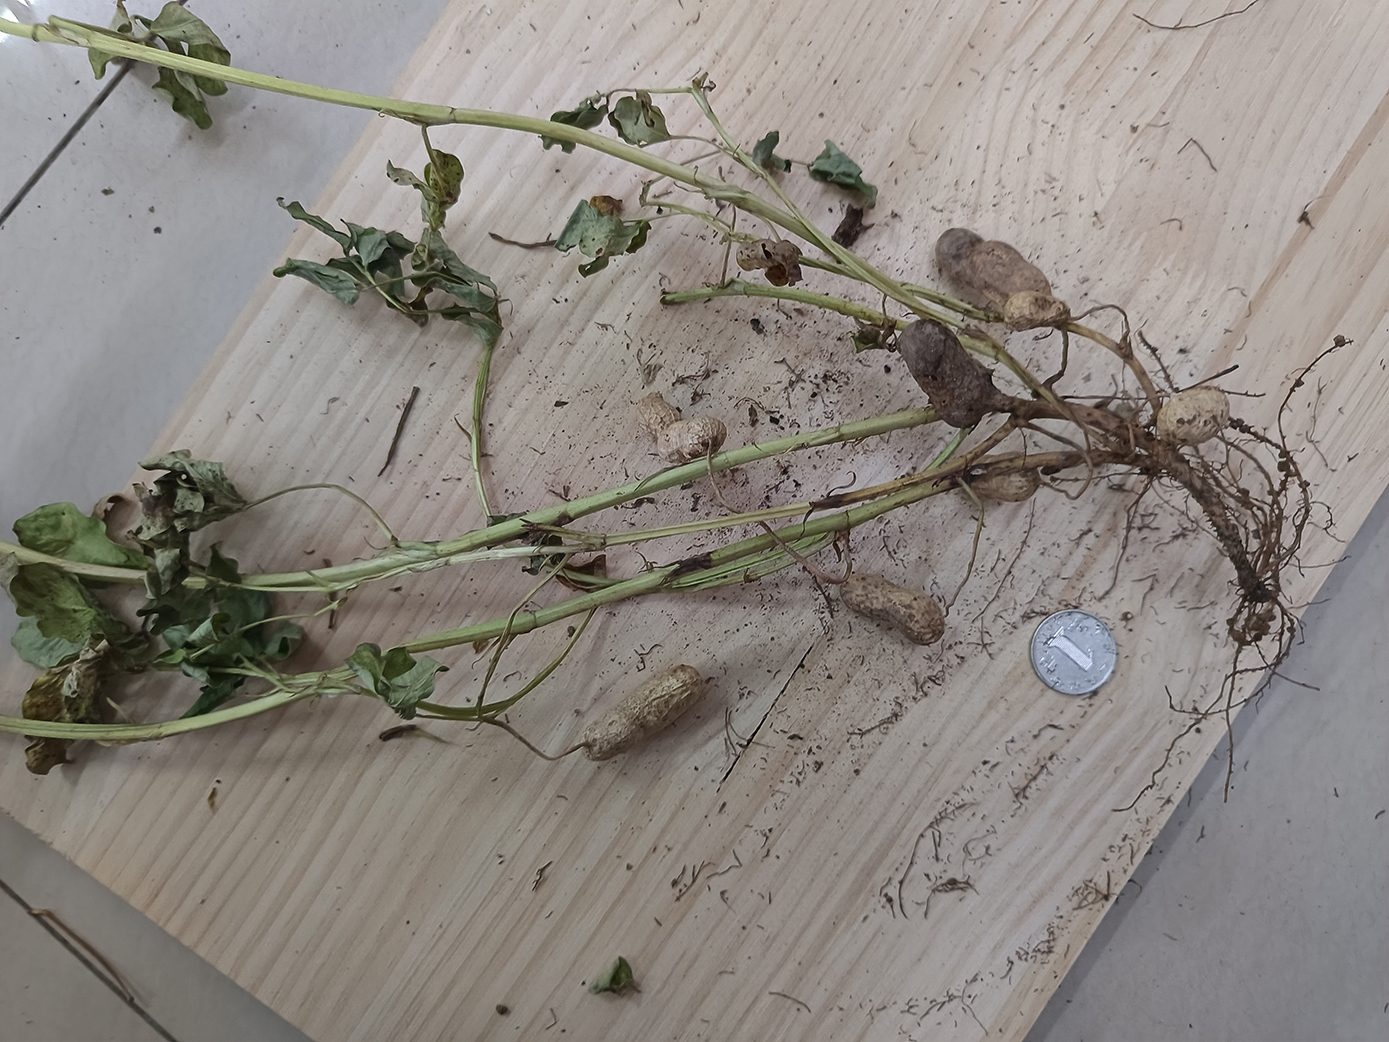h: (583, 665, 705, 761), (841, 574, 945, 646), (638, 393, 727, 464), (1157, 387, 1230, 445), (964, 451, 1040, 501), (1003, 292, 1070, 333)
l: (896, 319, 987, 427), (935, 227, 1050, 305)
